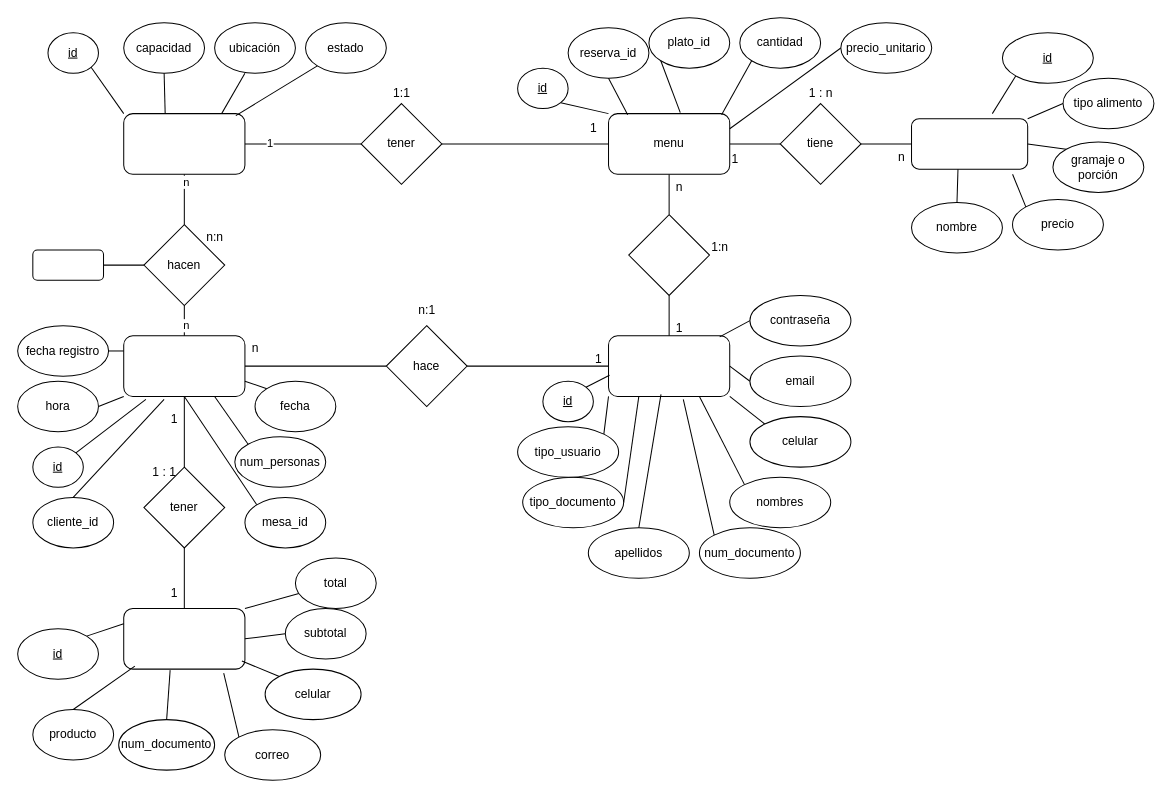
The diagram is 1172 pixels wide and 798 high, and some of its shapes have lost their labels. Here are the shapes that lost their labels. From the top down, the centre of each, then its label:
point (184, 143): mesas
point (969, 143): alimentos
point (68, 264): tiempo
point (669, 254): puede
point (184, 365): reservas
point (669, 365): usuarios
point (184, 638): comprobante
